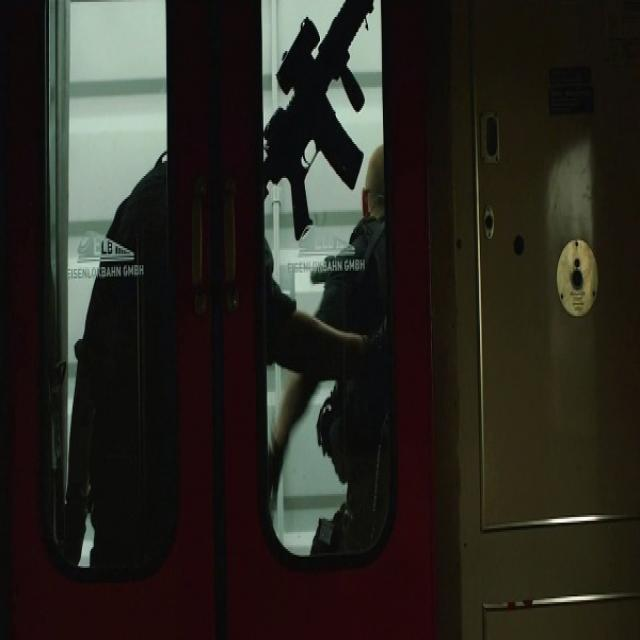rifle: (259, 1, 377, 244)
